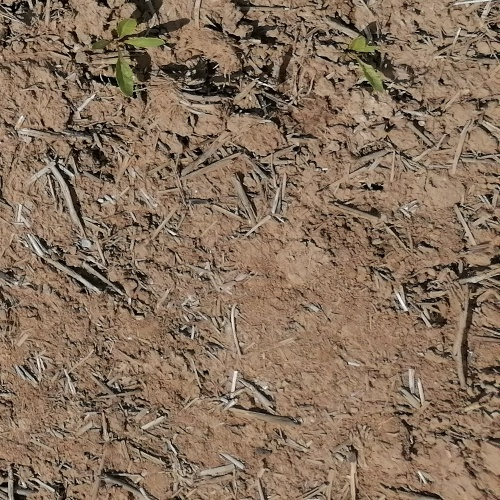beet: (93, 19, 165, 95), (347, 36, 386, 95)
